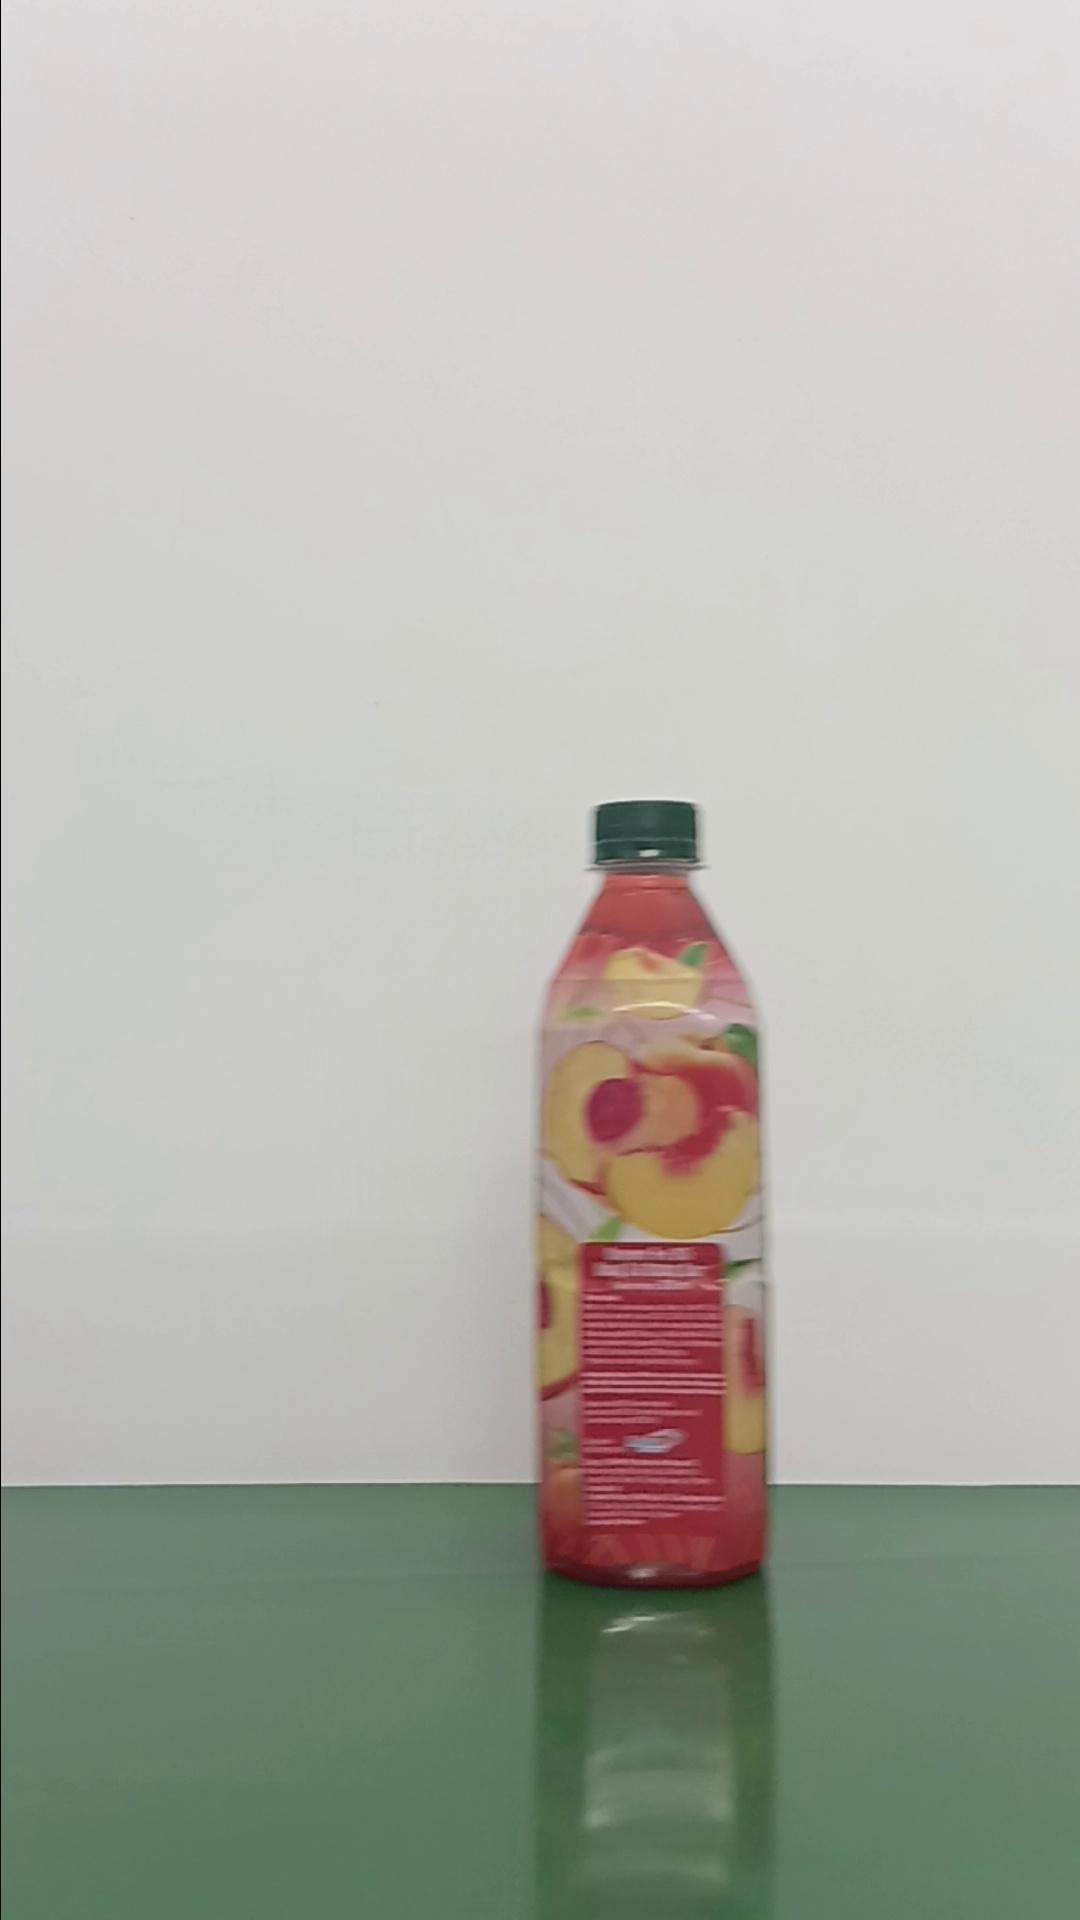khong loi: (530, 796, 771, 1589)
